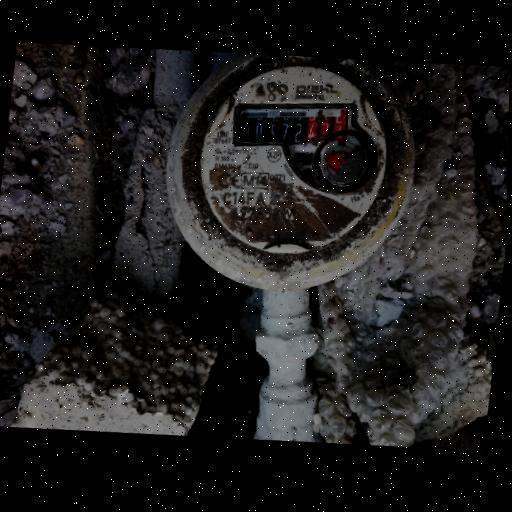0: (240, 116, 254, 143), (253, 116, 267, 143)
2: (290, 116, 306, 145), (318, 117, 332, 143)
3: (327, 108, 350, 147)
4: (306, 117, 320, 144)
5: (265, 116, 279, 144)
7: (278, 116, 292, 144)
border_water_meter_number: (233, 95, 366, 155)
